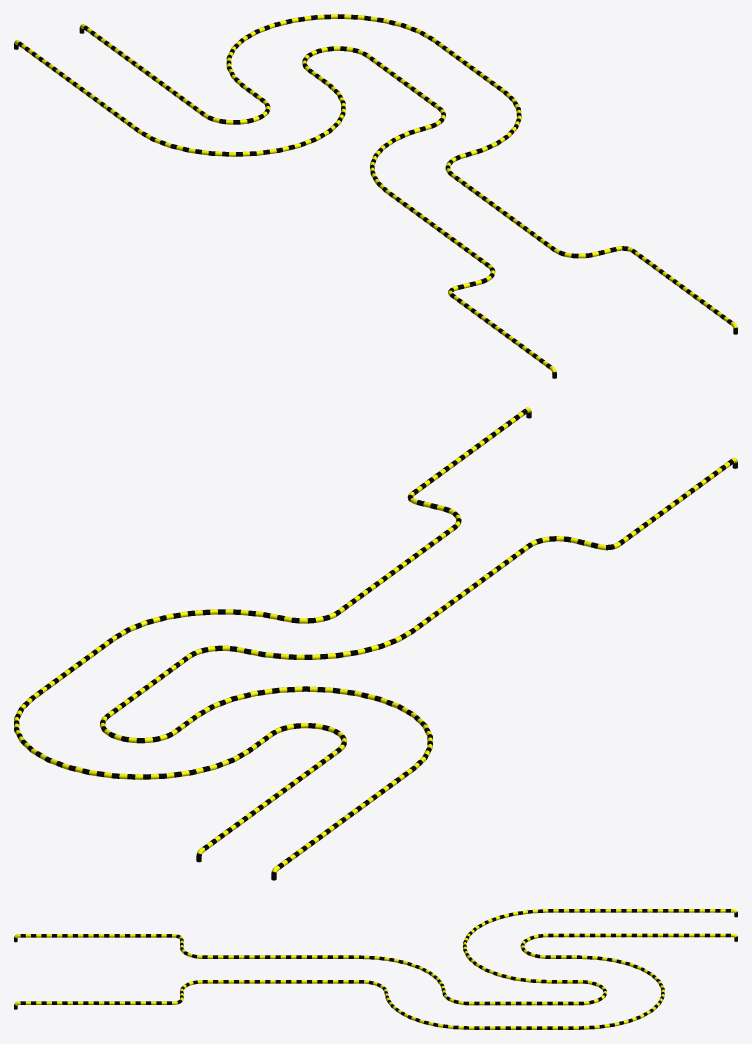
File: rod_37.FBX
The picture shows the model from 3 angles, top to bottom: view 1: azimuth 30°, elevation 25°; view 2: azimuth 150°, elevation 25°; view 3: azimuth 270°, elevation 25°; orthographic projection. The views are drawn at different scales.
Visible parts, largest first — view 1: rod_37; view 2: rod_37; view 3: rod_37.
Part boxes in pixels (box(x1,y1,x2,y2)): rod_37: box(14, 14, 737, 378); rod_37: box(14, 407, 737, 880); rod_37: box(14, 909, 737, 1029).
Bounding box in the file's own units: 1793 × 52.19 × 4623.
